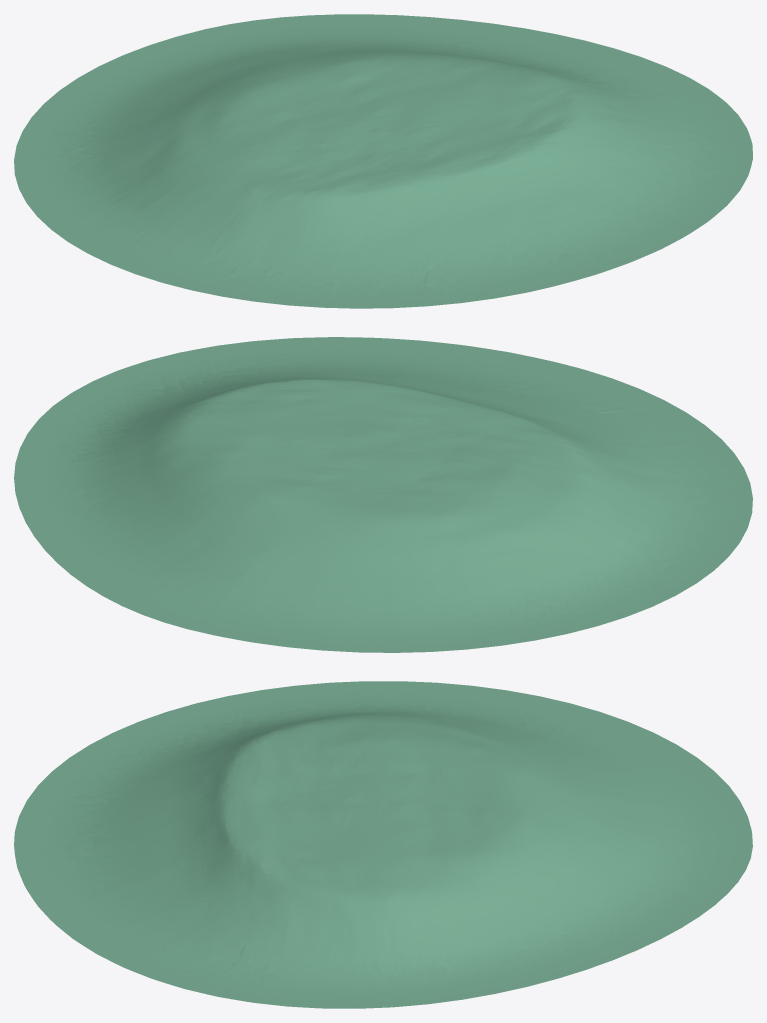
File: island_circular_C_C.fbx
The picture shows the model from 3 angles, top to bottom: view 1: azimuth 30°, elevation 25°; view 2: azimuth 150°, elevation 25°; view 3: azimuth 270°, elevation 25°; orthographic projection. The views are drawn at different scales.
Visible parts, largest first — view 1: island_circular_C_C; view 2: island_circular_C_C; view 3: island_circular_C_C.
Boxes of the visible parts, box(x1,y1,x2,y2) form: island_circular_C_C: box(14, 14, 752, 308); island_circular_C_C: box(14, 337, 752, 652); island_circular_C_C: box(14, 681, 752, 1008).
Size of the model in its own units: 31053 by 1889 by 29604.
